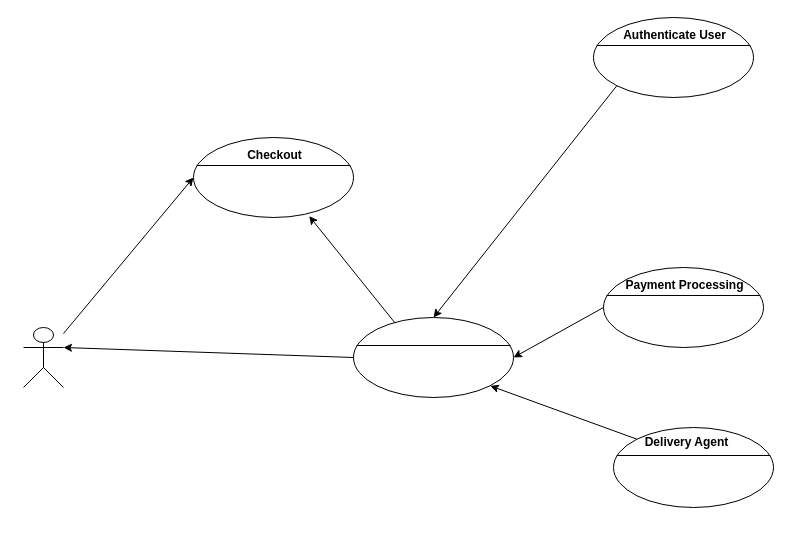
Some shapes in this 791 by 542 pixel diagram are drawn without their labels. Each missing label, with the centre of its shape:
"Customer" goes at point 43,357.
"Generate order" goes at point 433,357.
